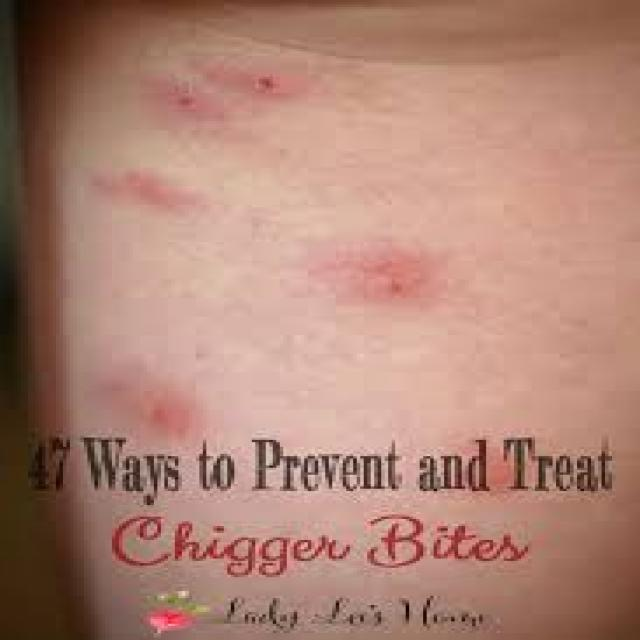kan emici bocekler: (89, 356, 252, 457), (95, 173, 231, 253), (214, 51, 378, 113), (318, 243, 467, 308), (115, 78, 233, 144)
